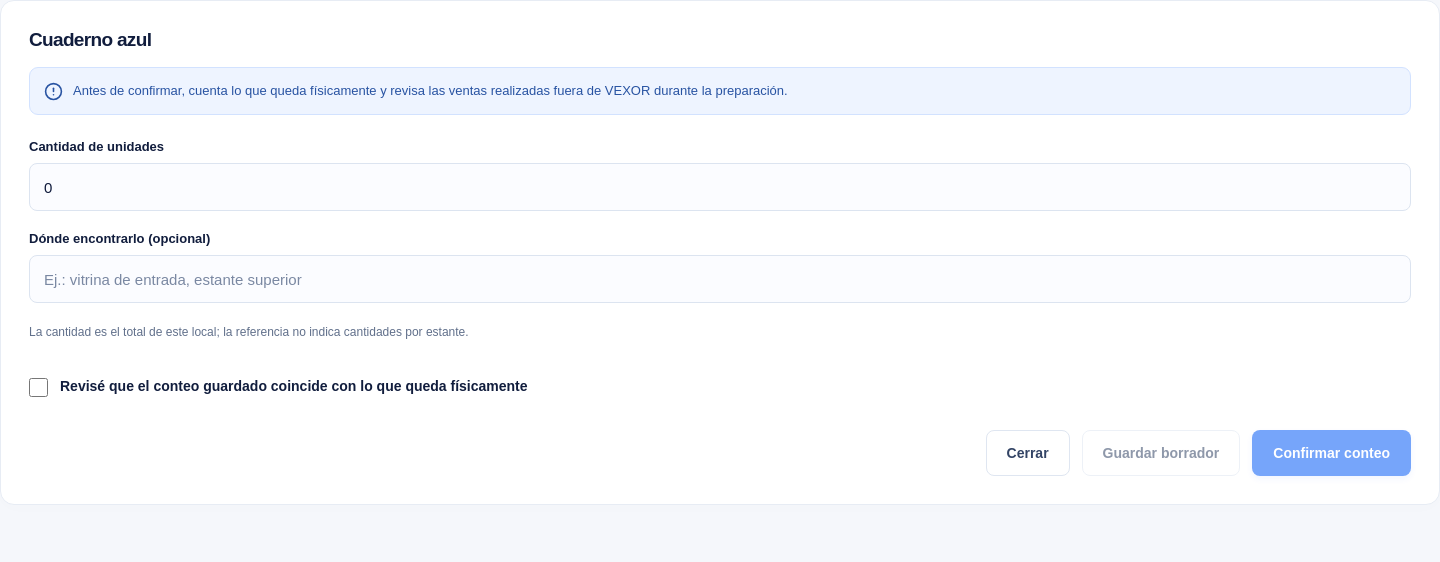
Test: editar la cantidad retira la revisión e impide confirmar sin guardar
This screenshot has width=1440, height=562.
Click the checkbox at (38, 387), box [29,378,48,397]
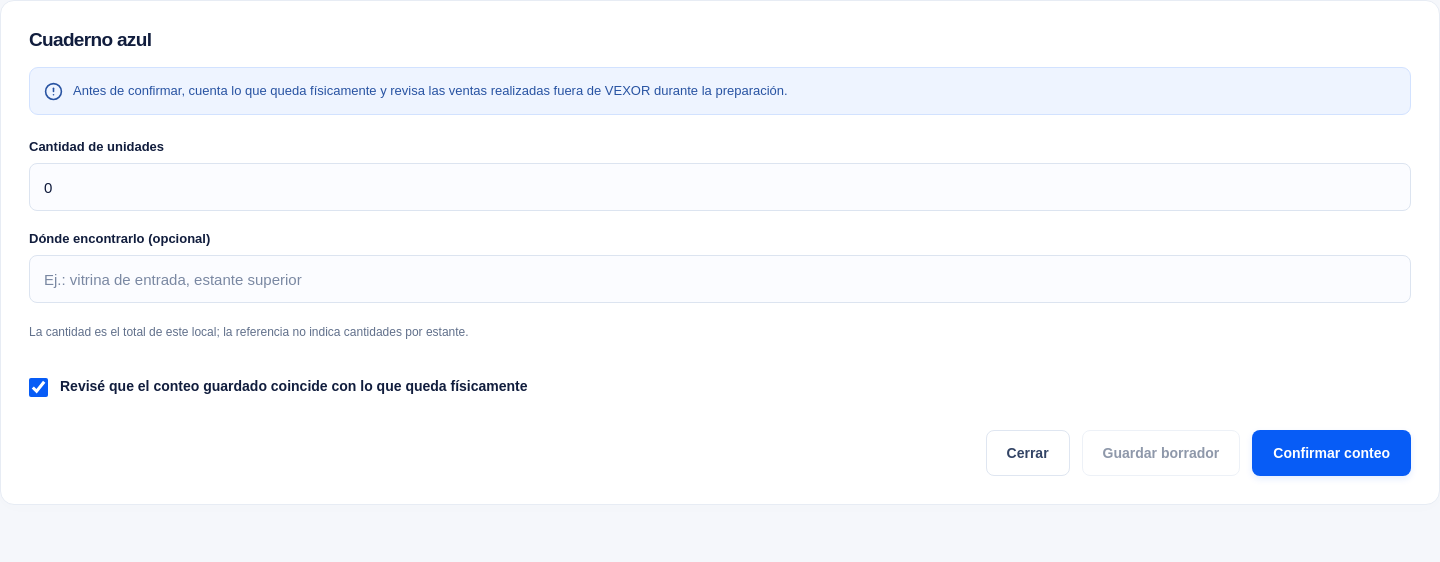
Replace the text in the number field labelled "Cantidad de unidades" with "5" at (720, 187), box [29,163,1411,211]
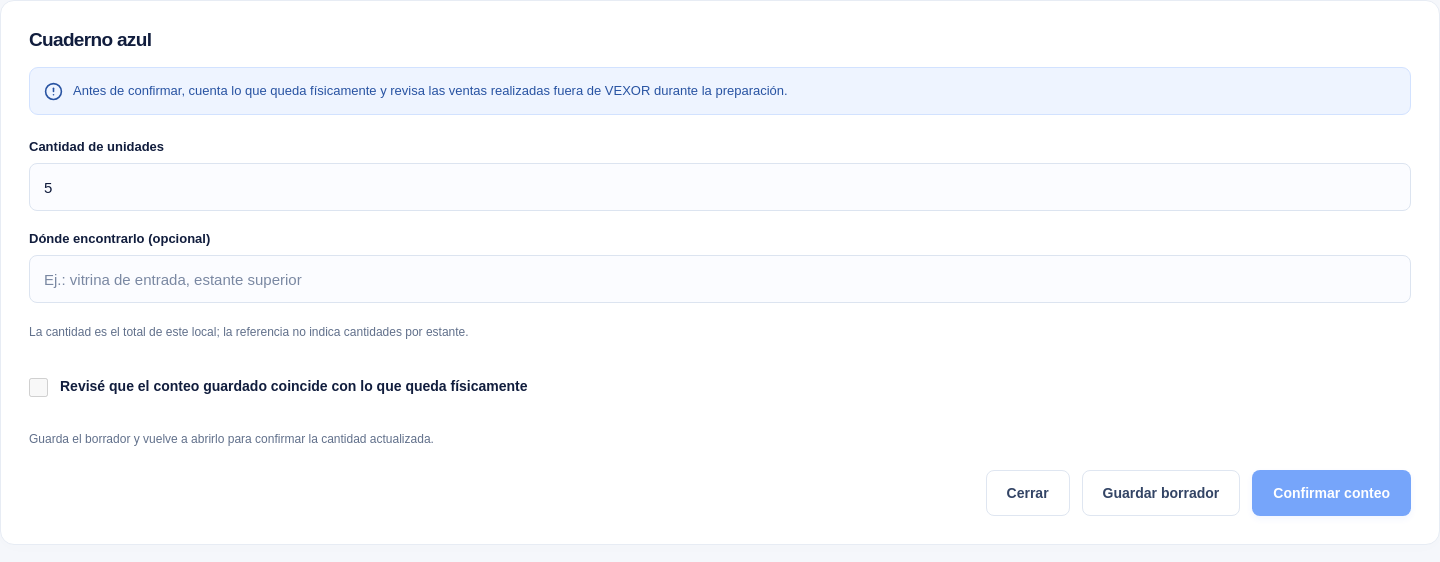
Now the checkbox is not checked, box [29,378,48,397]
Now the button "Confirmar conteo" is disabled, box [1252,470,1411,516]
